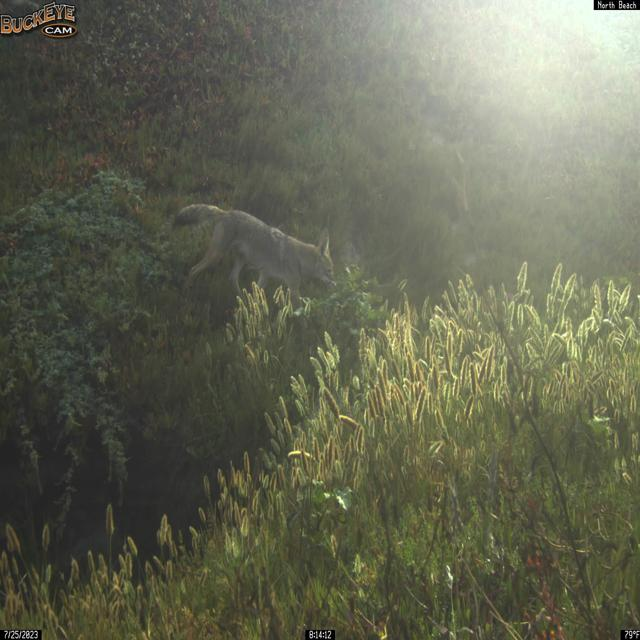coyote: (171, 202, 336, 332)
